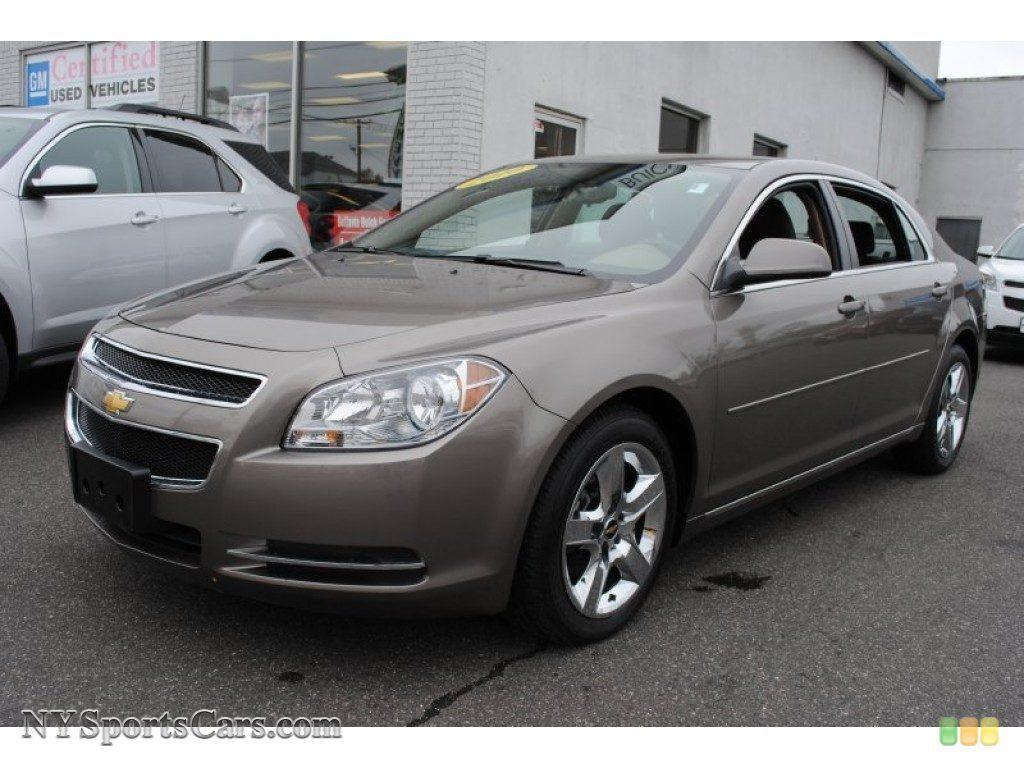Sedan: (61, 150, 988, 645), (0, 101, 316, 403)
